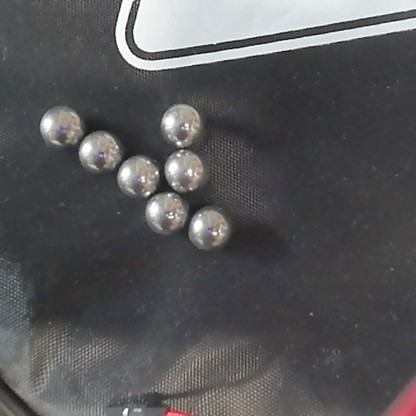ironball: (188, 206, 229, 251), (118, 154, 159, 197), (144, 192, 185, 234), (161, 104, 203, 145), (165, 148, 205, 191), (79, 130, 117, 171), (39, 106, 80, 144)
